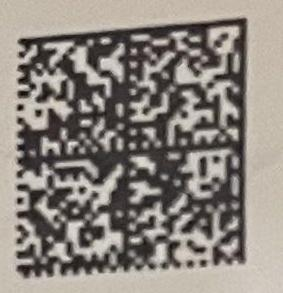datamatrix: (16, 20, 248, 279)
